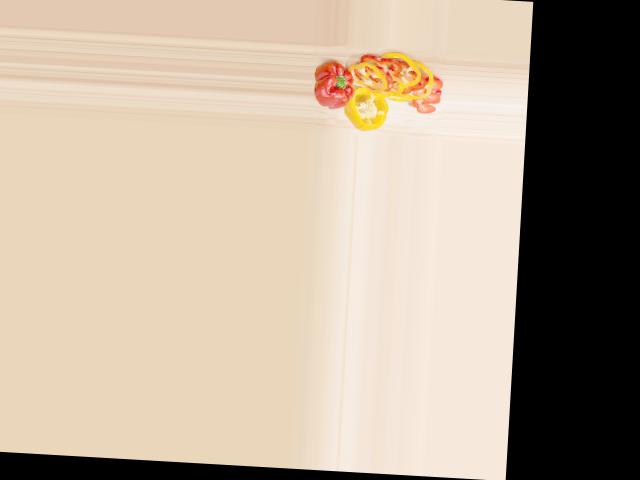bell_pepper: (345, 86, 391, 133)
